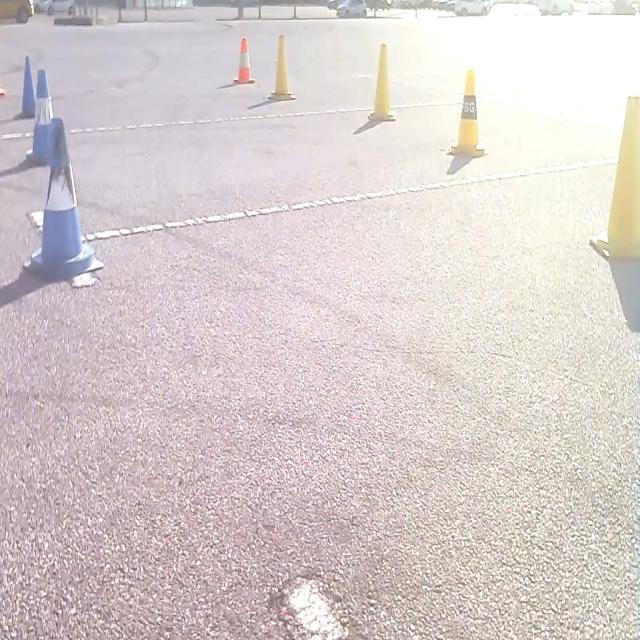blue_cone: (21, 120, 106, 278), (26, 67, 55, 164), (20, 53, 36, 117)
orange_cone: (233, 35, 255, 85)
yellow_cone: (589, 94, 639, 260), (447, 67, 485, 158), (368, 42, 396, 122), (269, 33, 295, 101)
